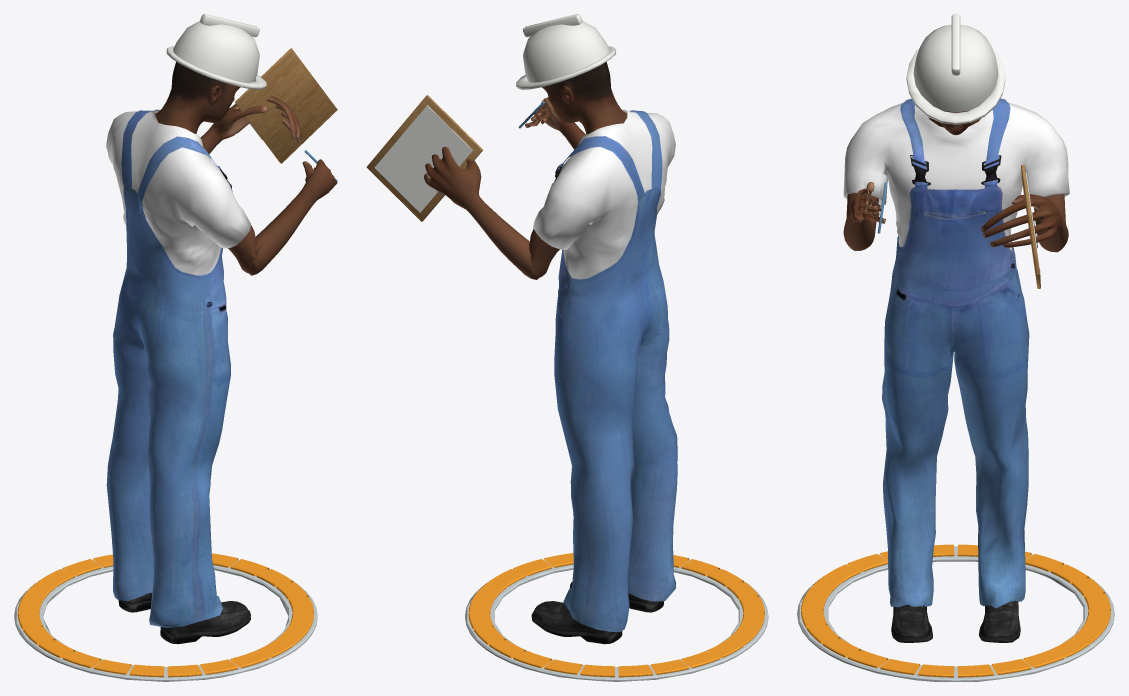
Rendered from MDO-TEC-003_lod1.glb.
3 views of the same model, side by side, from view 1: azimuth 30°, elevation 25°; view 2: azimuth 150°, elevation 25°; view 3: azimuth 270°, elevation 25° (orthographic). The views are drawn at different scales.
Visible parts, largest first — view 1: MDO-TEC-003_pessoa_male_worksuit01, MDO-TEC-003_pessoa, MDO-TEC-003_ferE_prancheta, MDO-TEC-003_capacete, MDO-TEC-003_anel_fundo, MDO-TEC-003_pessoa_shoes04, MDO-TEC-003_capacete_aba, MDO-TEC-003_capacete_friso; view 2: MDO-TEC-003_pessoa_male_worksuit01, MDO-TEC-003_pessoa, MDO-TEC-003_ferE_folha, MDO-TEC-003_capacete, MDO-TEC-003_anel_fundo, MDO-TEC-003_pessoa_shoes04, MDO-TEC-003_ferE_prancheta, MDO-TEC-003_capacete_aba; view 3: MDO-TEC-003_pessoa_male_worksuit01, MDO-TEC-003_capacete, MDO-TEC-003_pessoa, MDO-TEC-003_anel_fundo, MDO-TEC-003_pessoa_shoes04, MDO-TEC-003_capacete_aba, MDO-TEC-003_ferE_prancheta, MDO-TEC-003_capacete_friso.
Boxes of the visible parts, bbox=[...] form: MDO-TEC-003_pessoa_male_worksuit01: bbox=[106, 109, 250, 627]; MDO-TEC-003_pessoa: bbox=[155, 62, 337, 275]; MDO-TEC-003_ferE_prancheta: bbox=[235, 48, 337, 163]; MDO-TEC-003_capacete: bbox=[173, 21, 259, 82]; MDO-TEC-003_anel_fundo: bbox=[14, 559, 317, 681]; MDO-TEC-003_pessoa_shoes04: bbox=[118, 593, 250, 644]; MDO-TEC-003_capacete_aba: bbox=[166, 46, 266, 89]; MDO-TEC-003_capacete_friso: bbox=[200, 14, 259, 37]; MDO-TEC-003_pessoa_male_worksuit01: bbox=[533, 109, 677, 631]; MDO-TEC-003_pessoa: bbox=[424, 62, 627, 279]; MDO-TEC-003_ferE_folha: bbox=[374, 105, 472, 212]; MDO-TEC-003_capacete: bbox=[523, 21, 609, 82]; MDO-TEC-003_anel_fundo: bbox=[465, 559, 768, 681]; MDO-TEC-003_pessoa_shoes04: bbox=[531, 582, 663, 644]; MDO-TEC-003_ferE_prancheta: bbox=[366, 95, 482, 221]; MDO-TEC-003_capacete_aba: bbox=[516, 46, 615, 89]; MDO-TEC-003_pessoa_male_worksuit01: bbox=[843, 98, 1069, 608]; MDO-TEC-003_capacete: bbox=[913, 24, 998, 112]; MDO-TEC-003_pessoa: bbox=[843, 110, 1068, 252]; MDO-TEC-003_anel_fundo: bbox=[797, 546, 1114, 681]; MDO-TEC-003_pessoa_shoes04: bbox=[891, 600, 1020, 642]; MDO-TEC-003_capacete_aba: bbox=[906, 49, 1005, 124]; MDO-TEC-003_ferE_prancheta: bbox=[1021, 164, 1040, 288]; MDO-TEC-003_capacete_friso: bbox=[951, 14, 960, 75].
Size of the model in its own units: 1.09 by 1.82 by 0.84.
12 materials, 6 textured.
